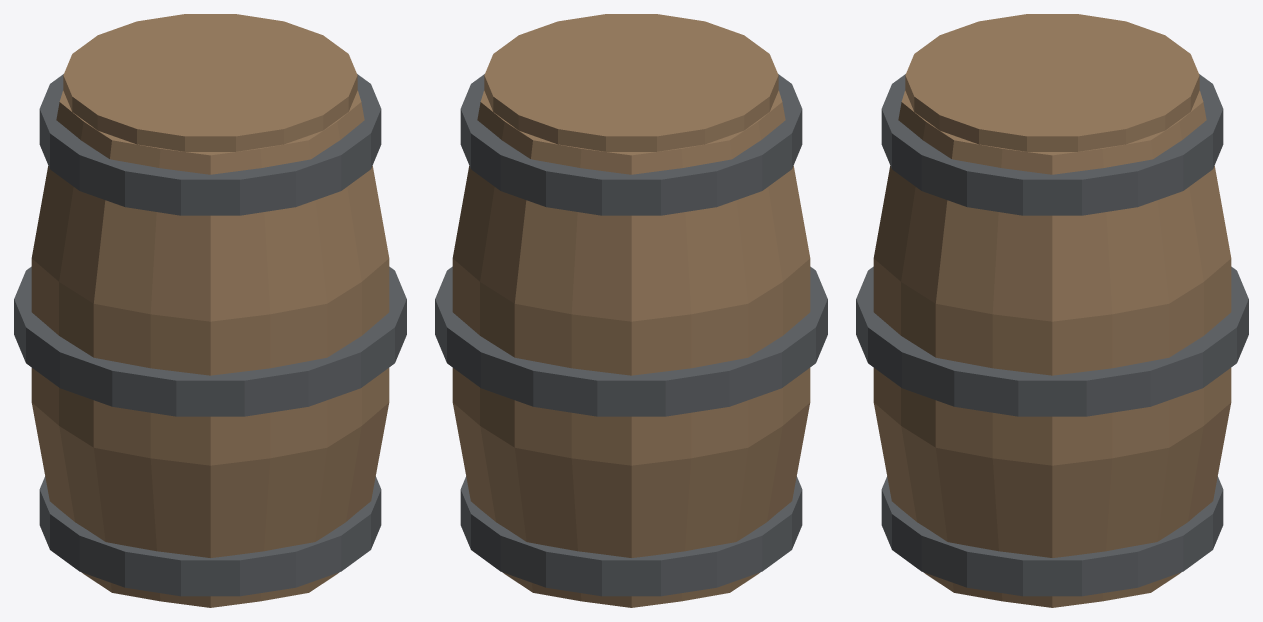
File: barrel.glb
The picture shows the model from 3 angles, left to right: view 1: azimuth 30°, elevation 25°; view 2: azimuth 150°, elevation 25°; view 3: azimuth 270°, elevation 25°; orthographic projection.
Visible parts, largest first — view 1: barrel; view 2: barrel; view 3: barrel.
Part boxes in pixels (x1,y1,x2,y2): barrel: (14,14,406,607); barrel: (435,14,827,607); barrel: (856,14,1248,607).
Size of the model in its own units: 0.6815 by 0.91 by 0.692.
